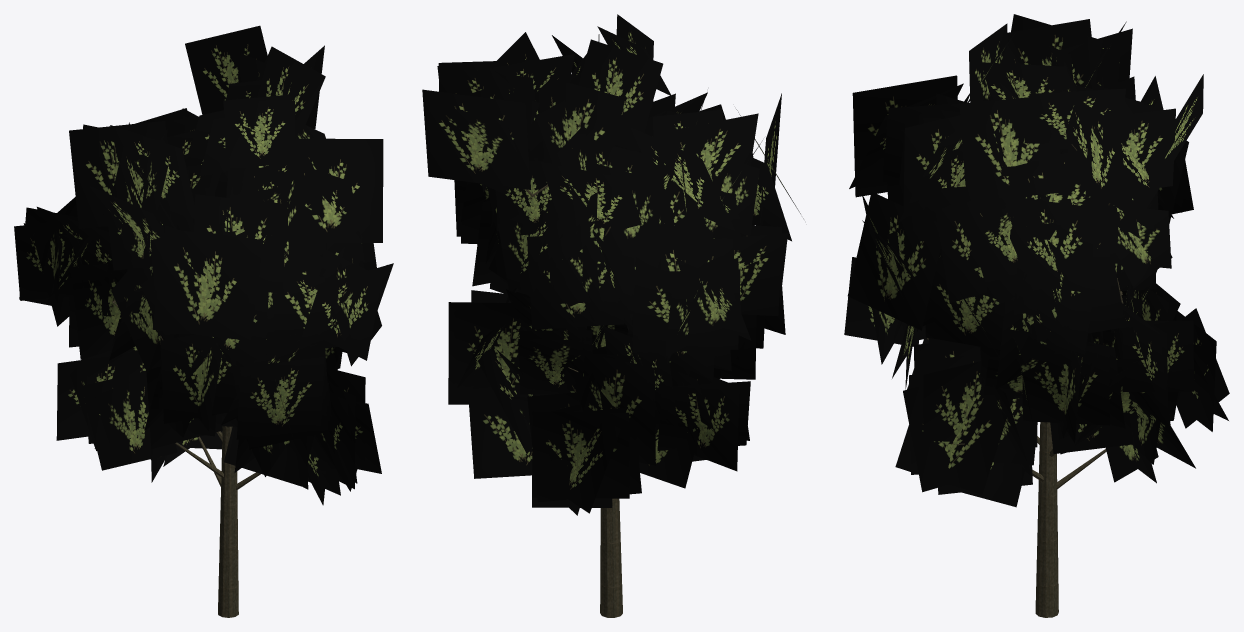
Rendered from tree-tall.glb.
The picture shows the model from 3 angles, left to right: view 1: azimuth 30°, elevation 25°; view 2: azimuth 150°, elevation 25°; view 3: azimuth 270°, elevation 25°; orthographic projection. The views are drawn at different scales.
Visible parts, largest first — view 1: tree-tall / Leaf cluster cutout, tree-tall / Ridged bark; view 2: tree-tall / Leaf cluster cutout, tree-tall / Ridged bark; view 3: tree-tall / Leaf cluster cutout, tree-tall / Ridged bark.
Part boxes in pixels (box(x1,y1,x2,y2)): tree-tall / Leaf cluster cutout: box(14, 25, 393, 505); tree-tall / Ridged bark: box(112, 176, 260, 617); tree-tall / Leaf cluster cutout: box(422, 14, 803, 515); tree-tall / Ridged bark: box(513, 184, 622, 617); tree-tall / Leaf cluster cutout: box(844, 14, 1229, 507); tree-tall / Ridged bark: box(927, 144, 1123, 617).
Size of the model in its own units: 7.95 by 12.96 by 7.98.
Materials: 2 (2 with a texture image).
